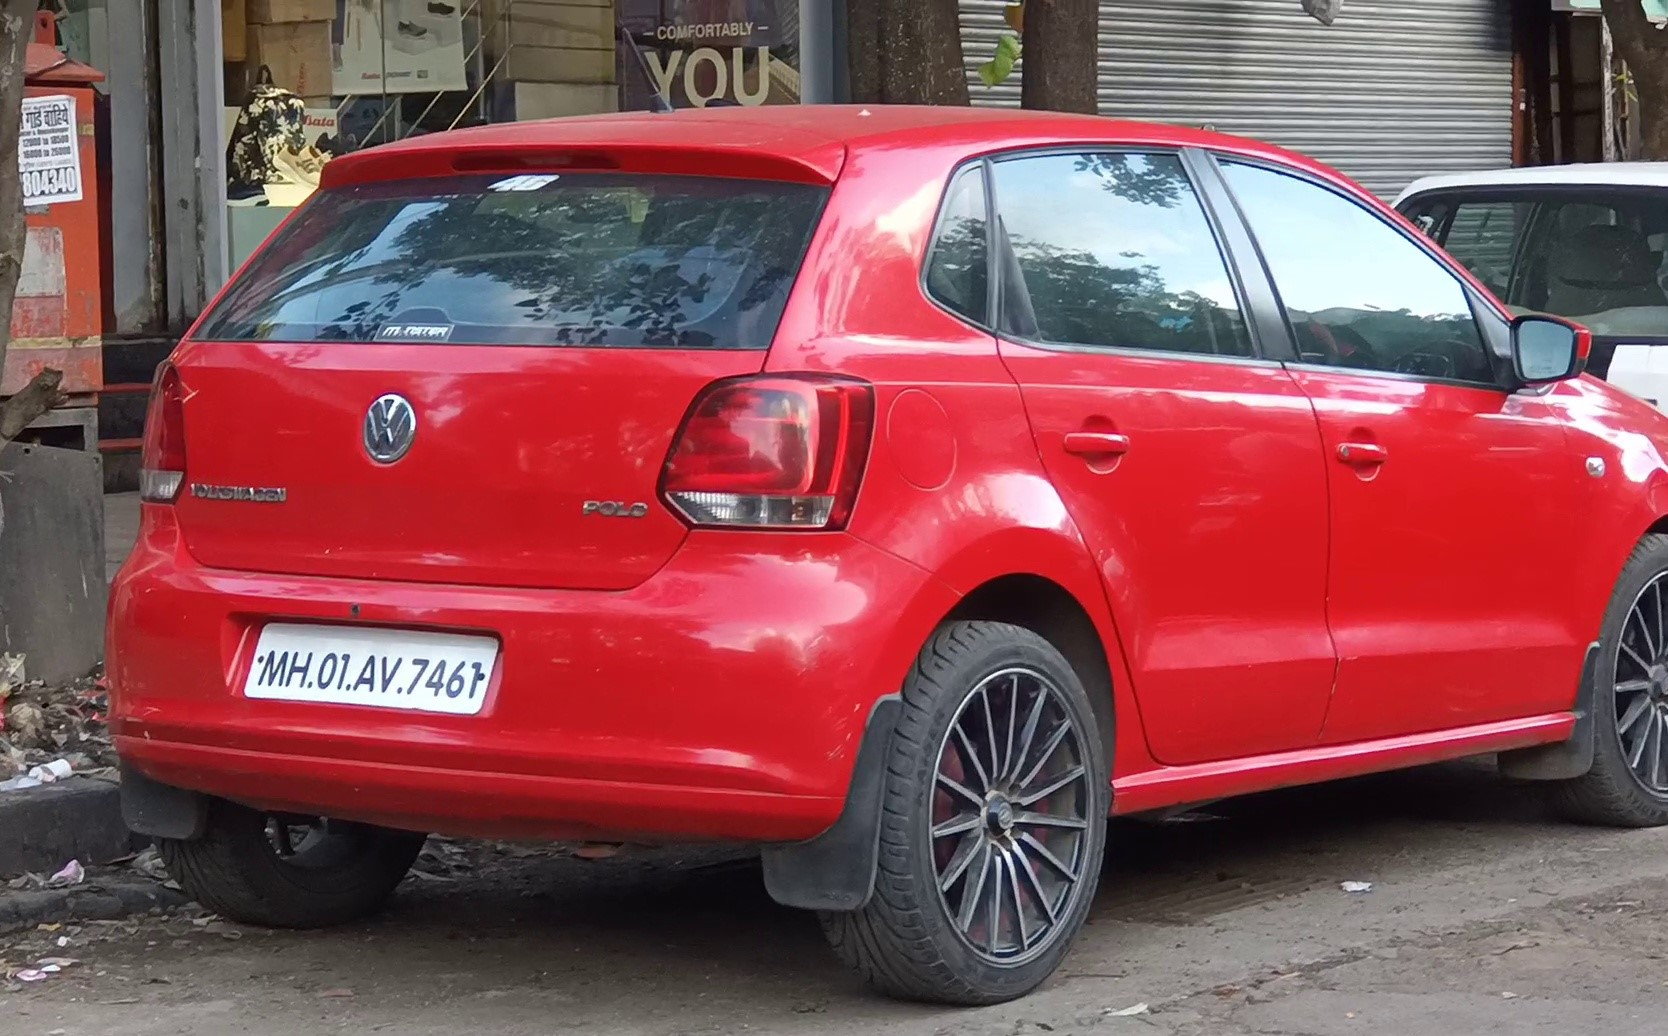MH01AV7461: (244, 617, 497, 713)
